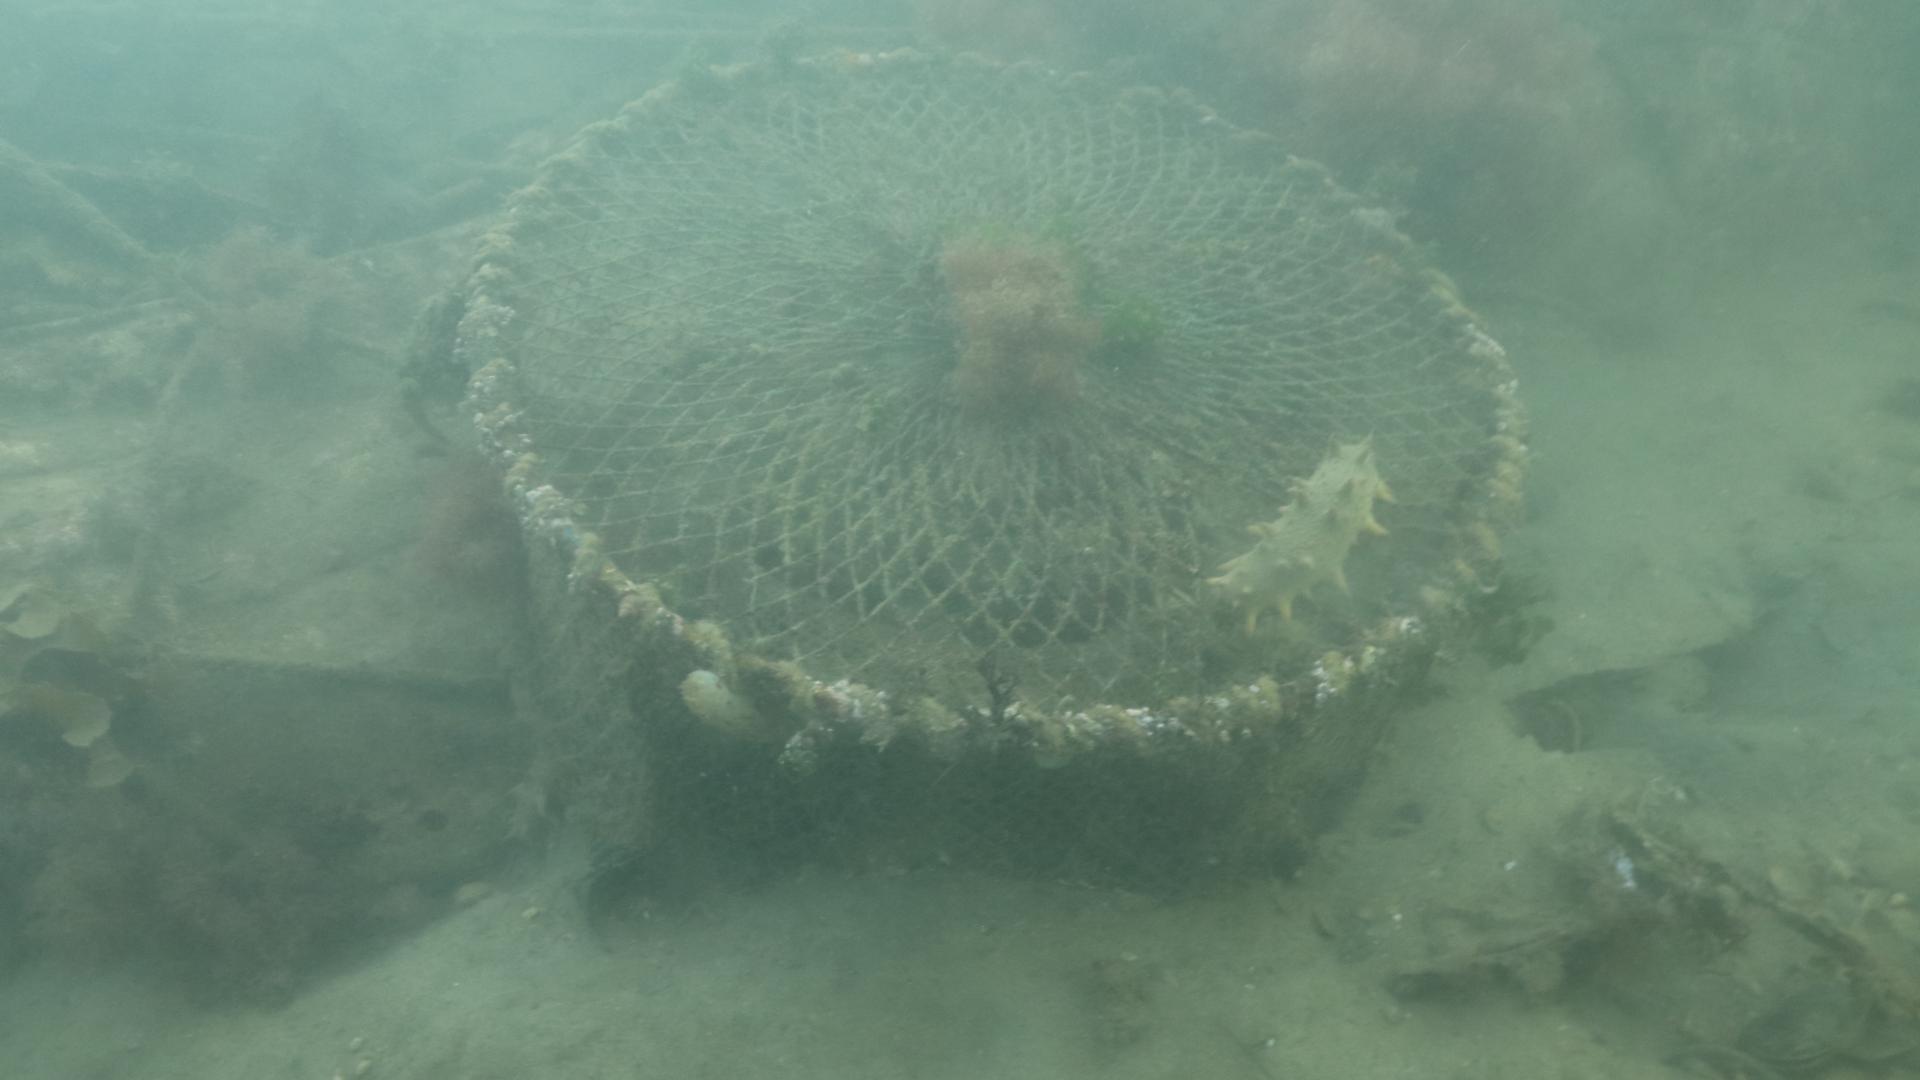circular fish trap: (455, 47, 1530, 891)
